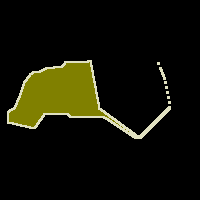tie: (8, 58, 170, 138)
